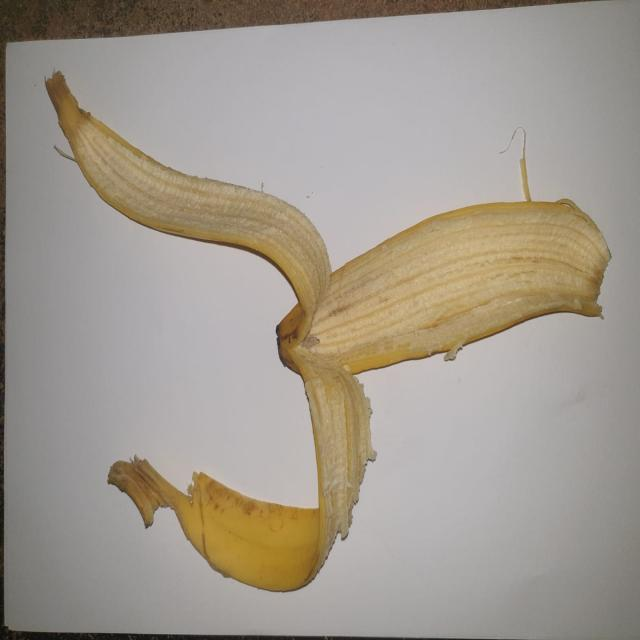banana-peel: (43, 68, 612, 592)
